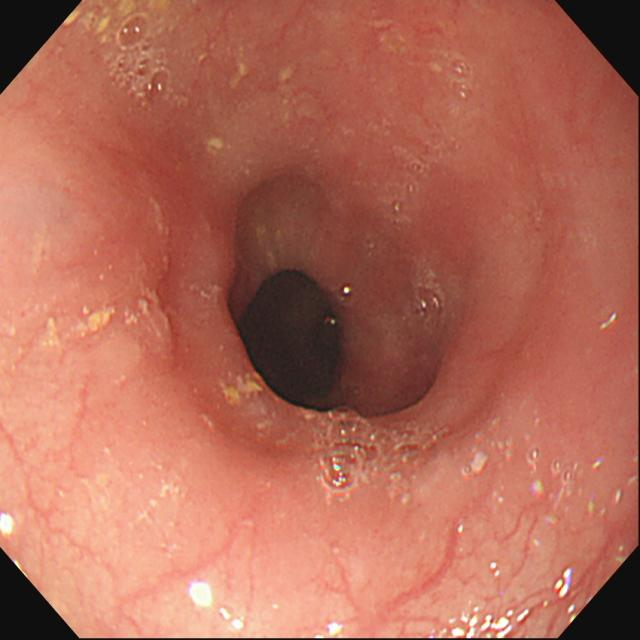E: (245, 264, 353, 409)
J: (14, 301, 176, 354), (218, 369, 273, 404)
T: (317, 410, 453, 494), (118, 12, 173, 105), (391, 161, 430, 220), (528, 444, 577, 483), (414, 285, 445, 332), (449, 52, 475, 103)
U: (442, 609, 531, 640), (189, 578, 215, 611), (556, 570, 574, 602)
